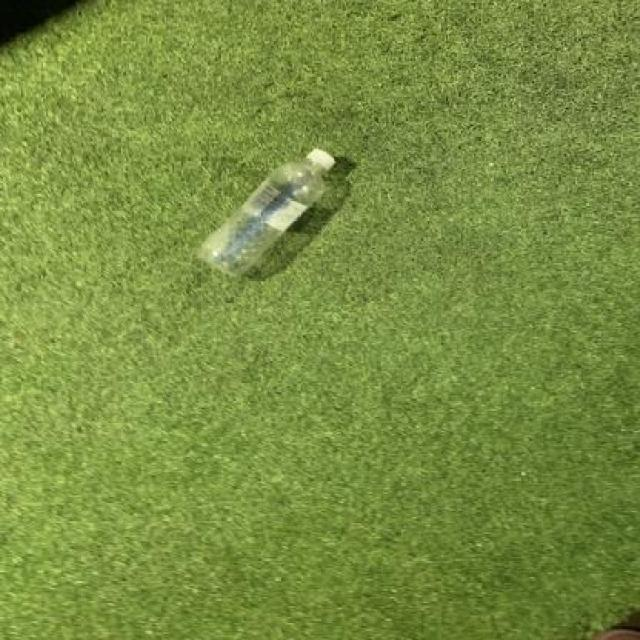trash: (194, 147, 334, 279)
